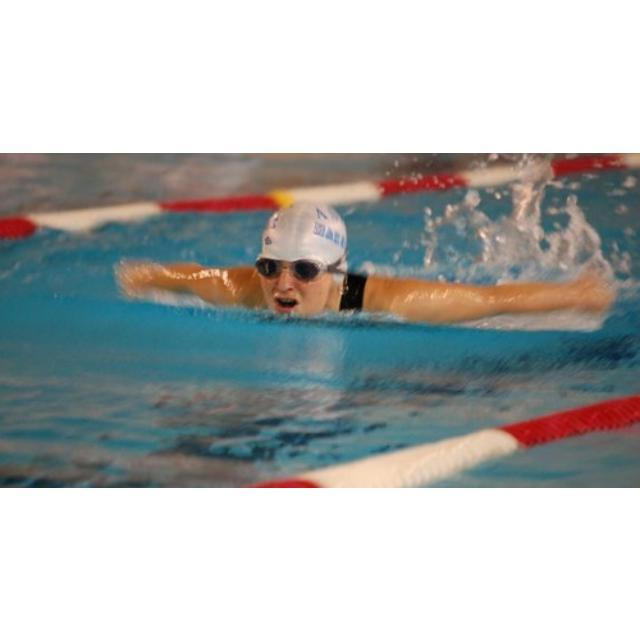human: (111, 199, 611, 329)
